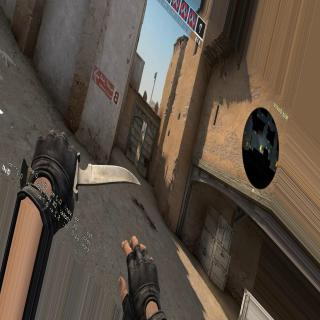CT-Head: (142, 131, 144, 133)
